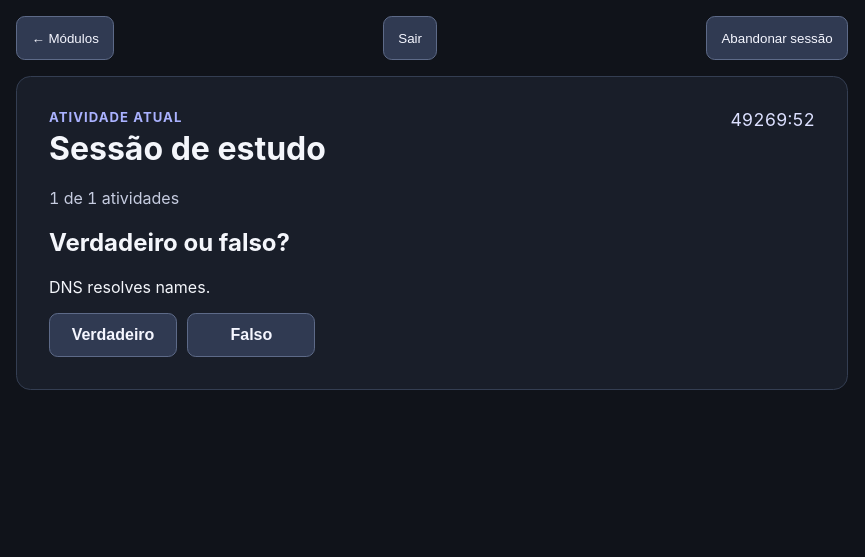
student session page › loads the API activity, shows backend feedback, and waits for Continue before rendering next
This screenshot has width=865, height=557.
Check: the heading "Sessão de estudo" is shown, box [49,129,326,168]
Check: the text "DNS resolves names." is shown, box [49,277,210,297]
Click the button "Verdadeiro" at (113, 335), box [49,313,177,357]
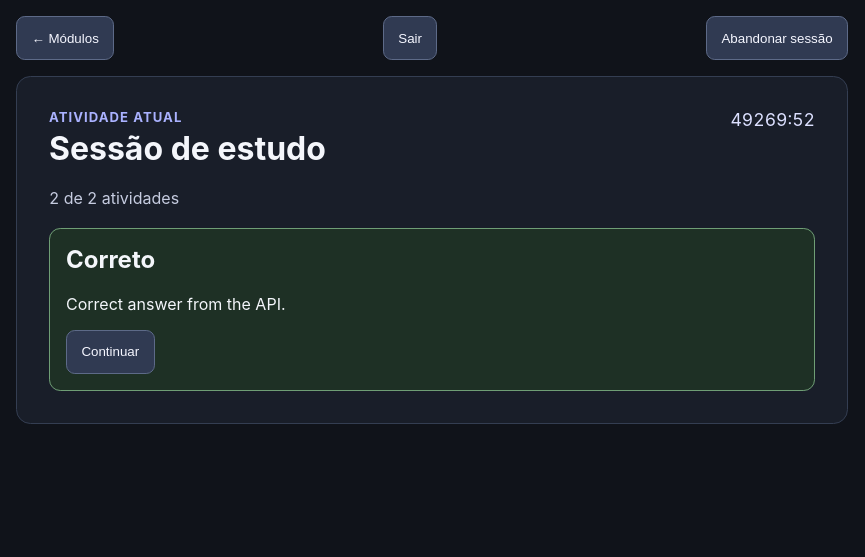
Check: the text "Complete as lacunas" is not shown
Check: the text "Correct answer from the API." is shown, box [66,294,286,314]
Click the button "Continuar" at (110, 352), box [66,330,155,374]
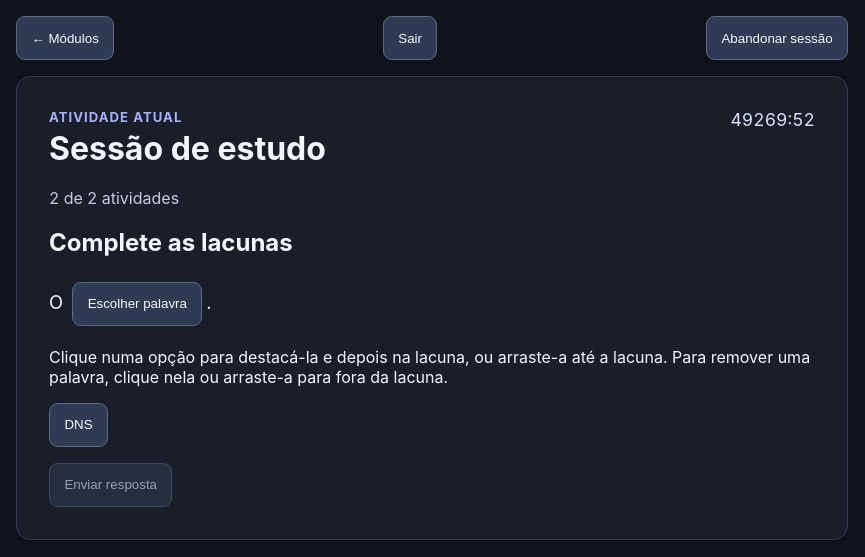
Check: the heading "Complete as lacunas" is shown, box [49,228,293,257]
